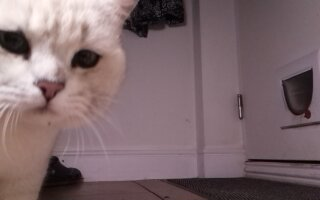bad: (1, 5, 141, 194)
